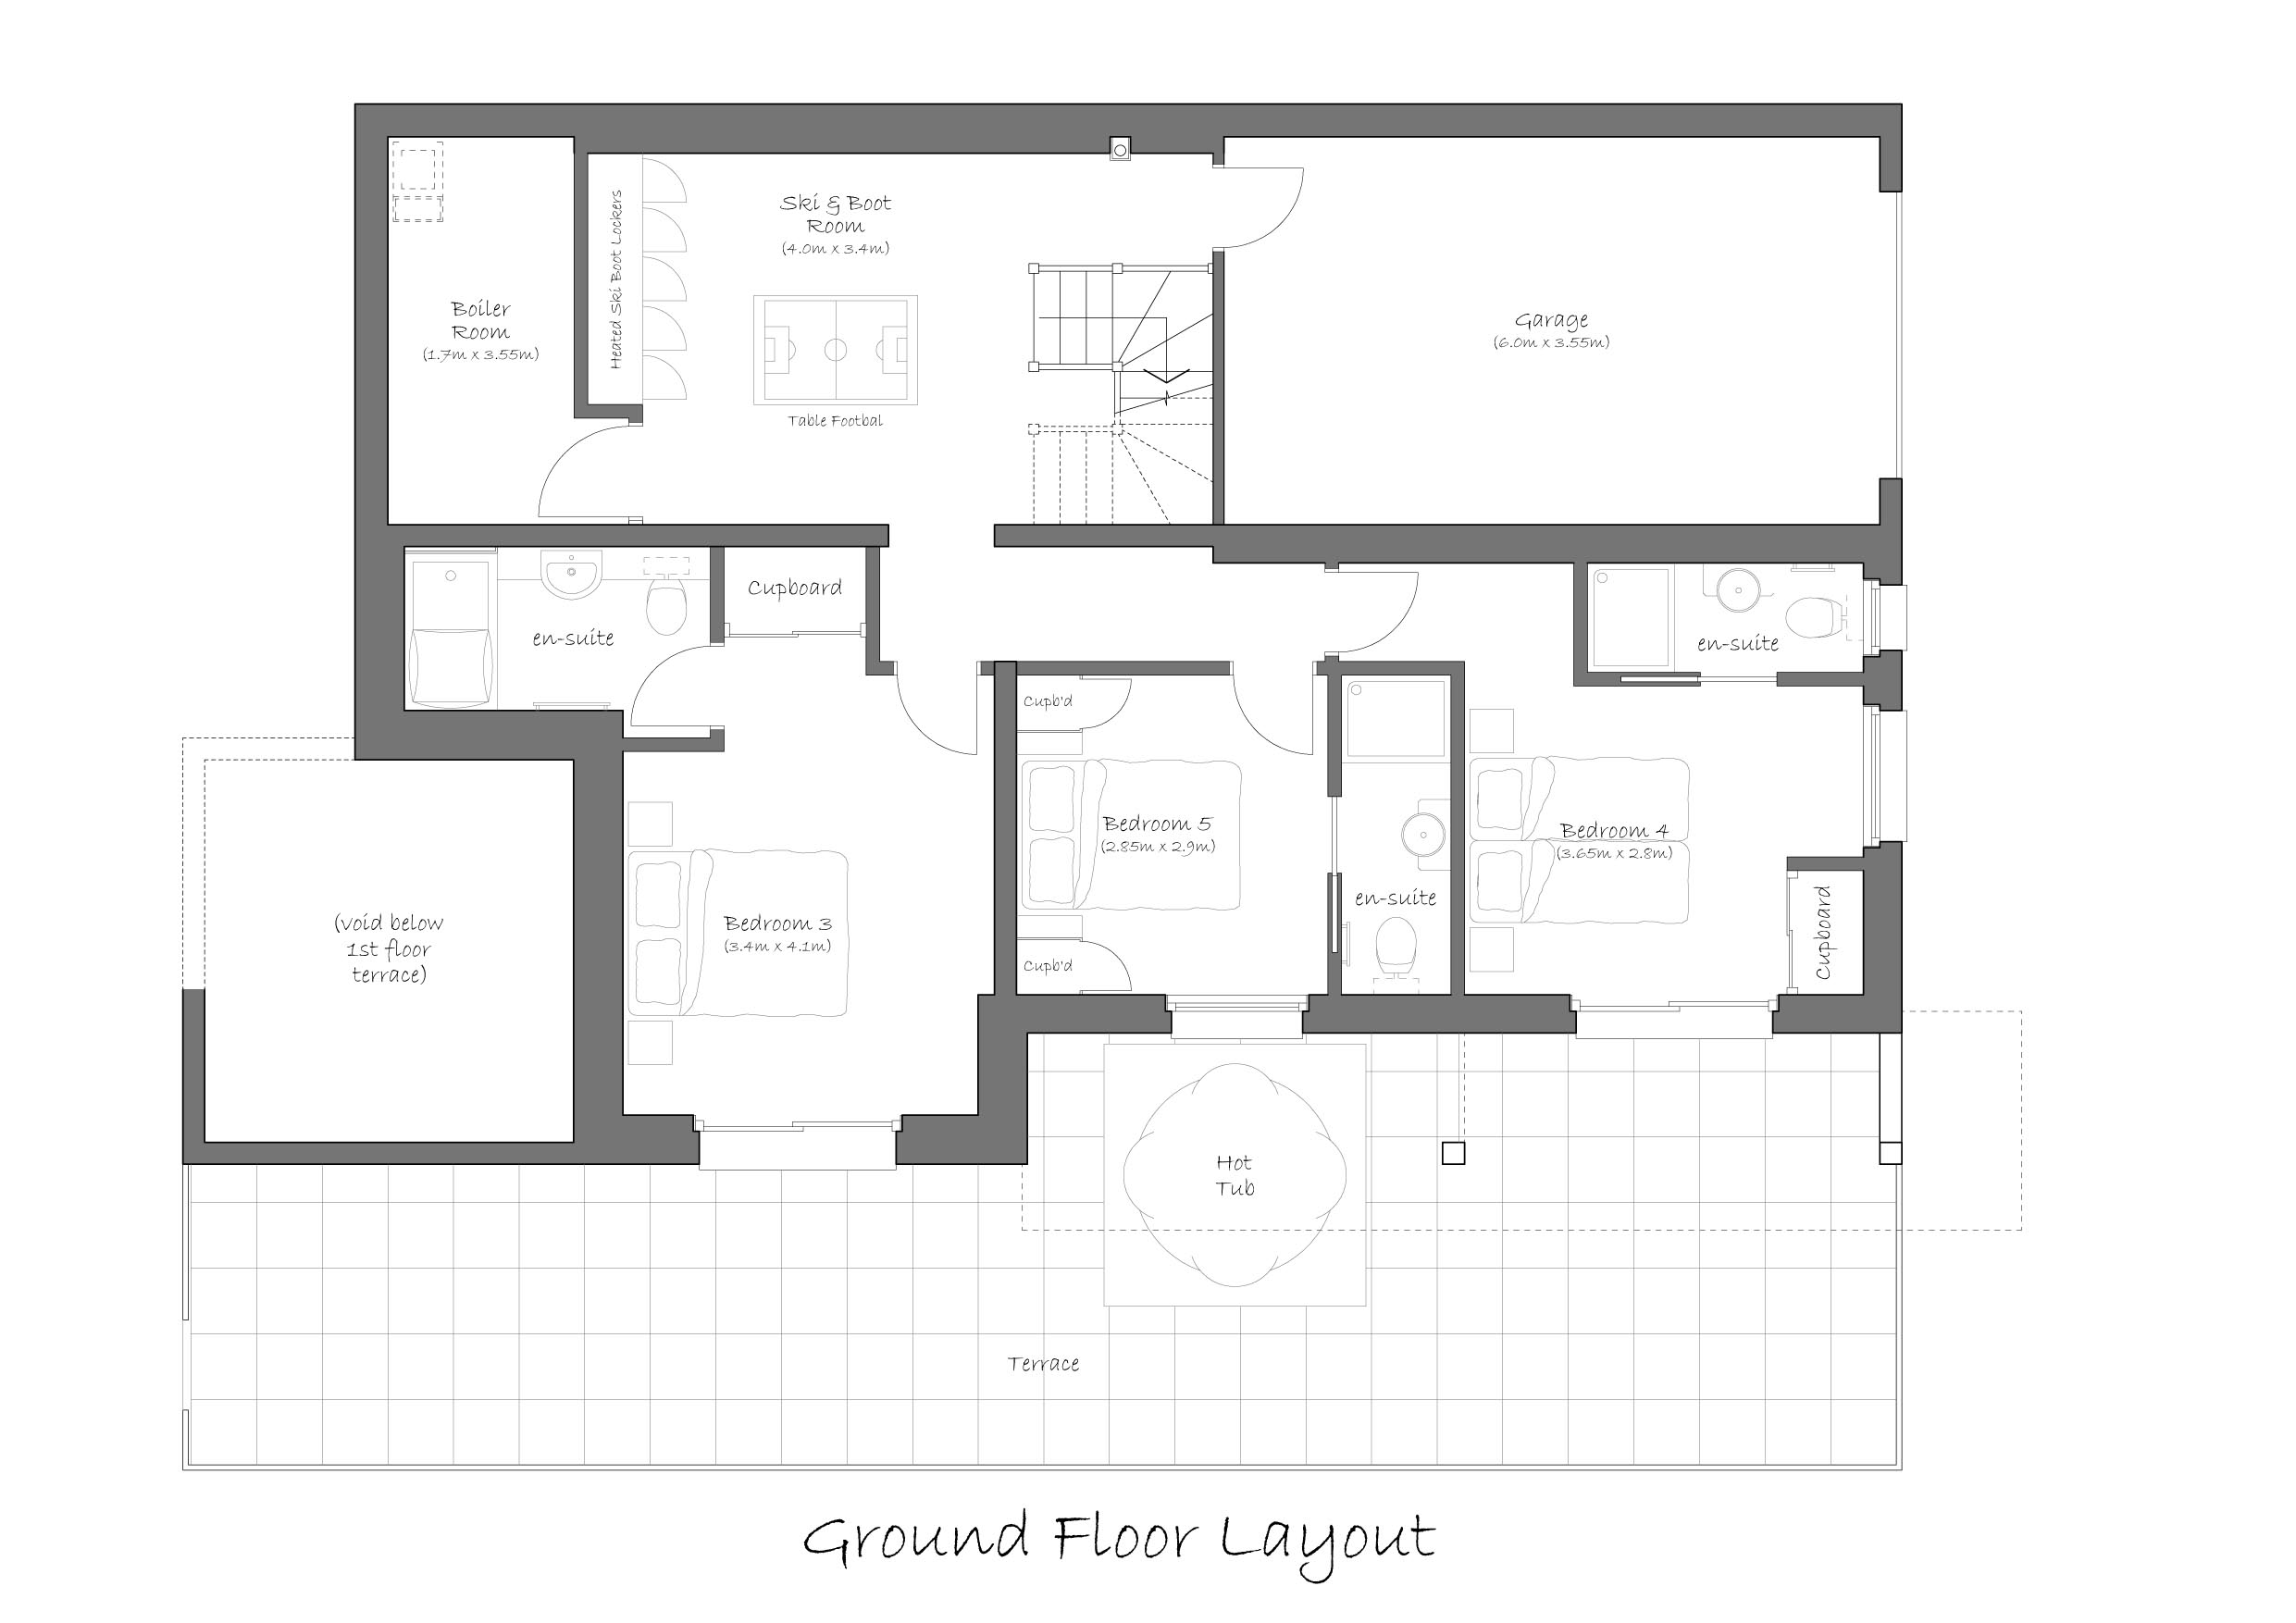room: (358, 104, 1230, 553), (588, 713, 1021, 1166), (1446, 660, 1910, 1040), (989, 660, 1346, 1028)
